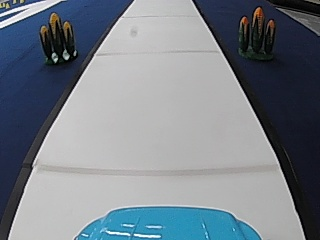corn: (234, 4, 277, 61), (39, 10, 78, 64)
